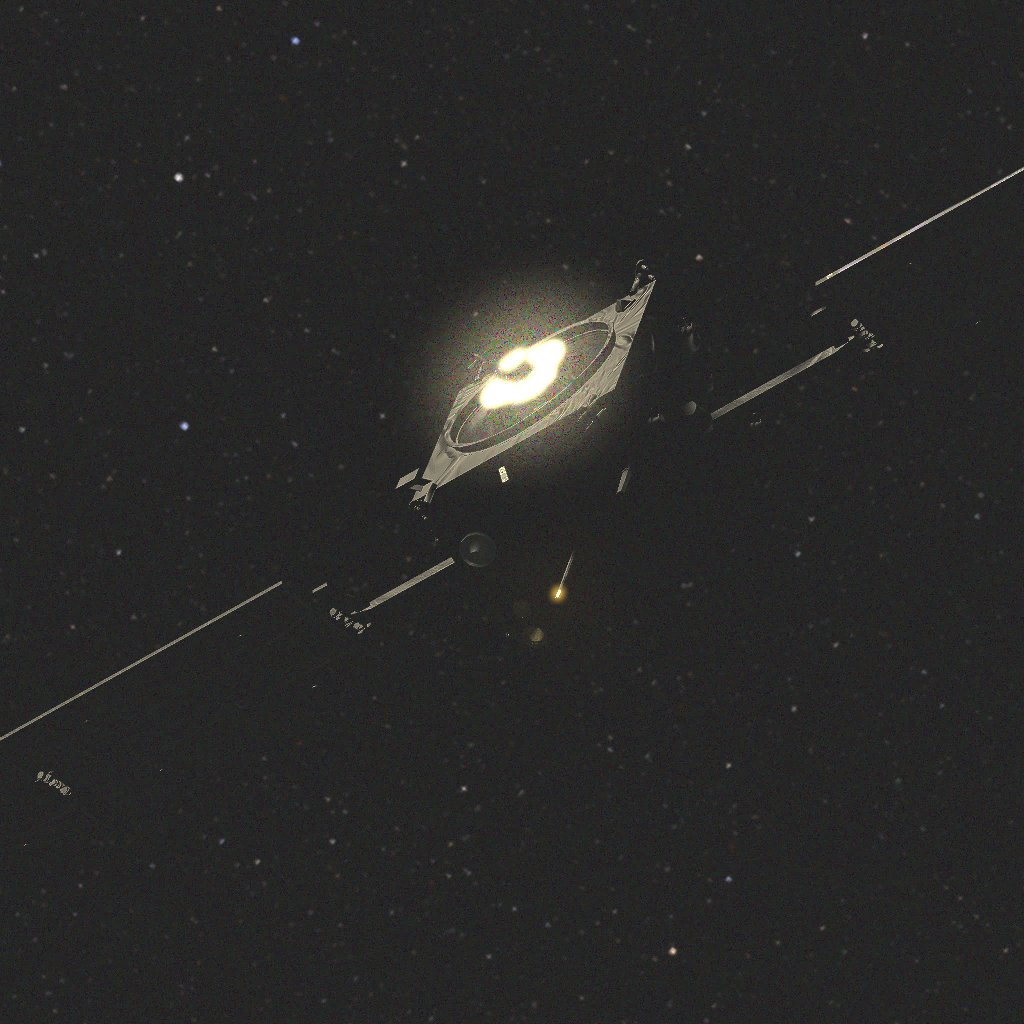smart_1: (0, 166, 1024, 889)
